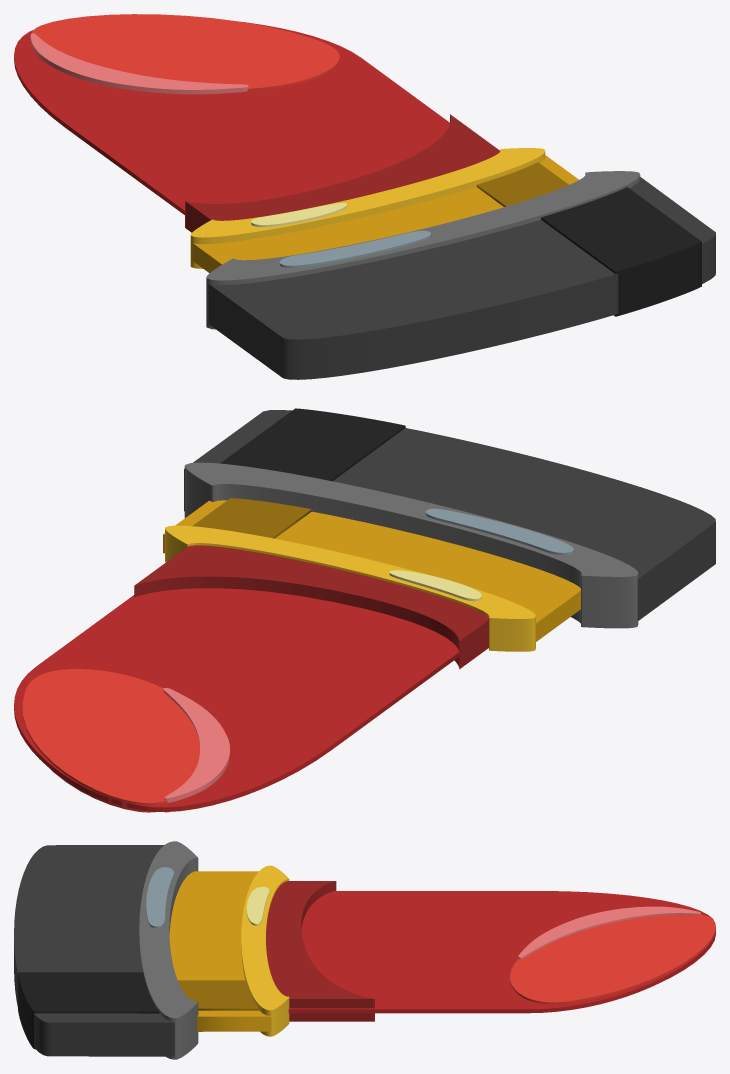
File: emoji_u1f484.glb
3 renders of one model, top to bottom at view 1: azimuth 30°, elevation 25°; view 2: azimuth 150°, elevation 25°; view 3: azimuth 270°, elevation 25°, orthographic. The views are drawn at different scales.
Parts seen in each view (by area): view 1: emoji_u1f484; view 2: emoji_u1f484; view 3: emoji_u1f484.
Part boxes in pixels (bbox=[...]): emoji_u1f484: bbox=[14, 14, 715, 379]; emoji_u1f484: bbox=[14, 408, 715, 812]; emoji_u1f484: bbox=[14, 841, 715, 1059].
Bounding box in the file's own units: 0.0203 × 0.0024 × 0.0338.
